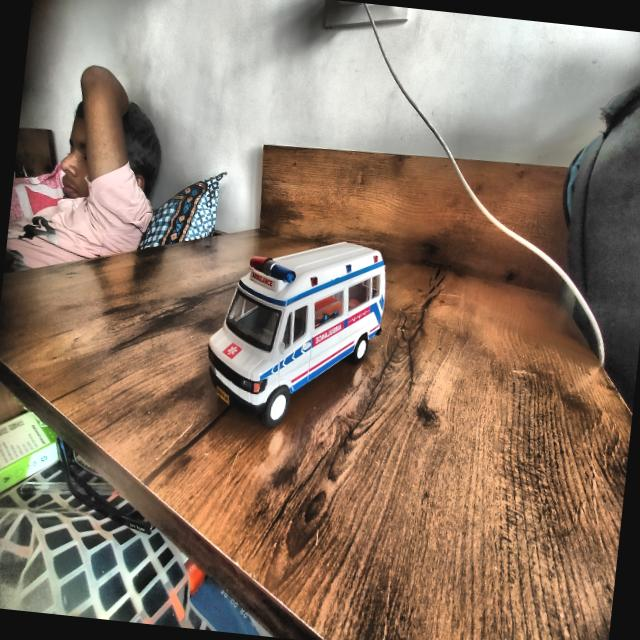Ambulance: (200, 229, 390, 437)
